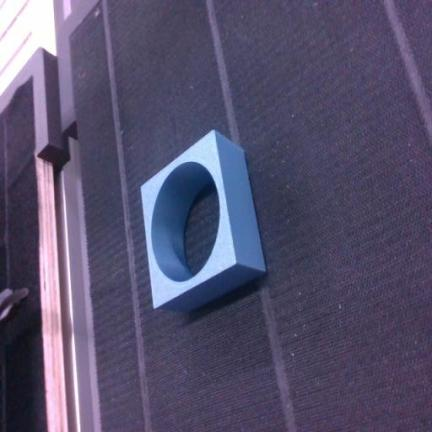hole: (141, 131, 265, 310)
